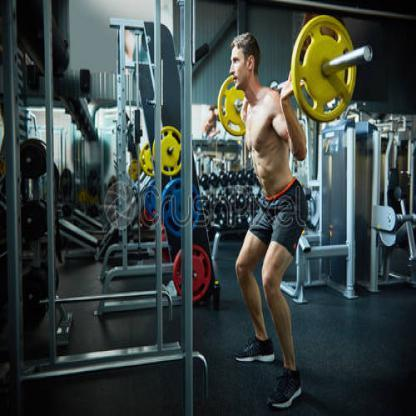Barbell: (363, 43, 376, 65)
